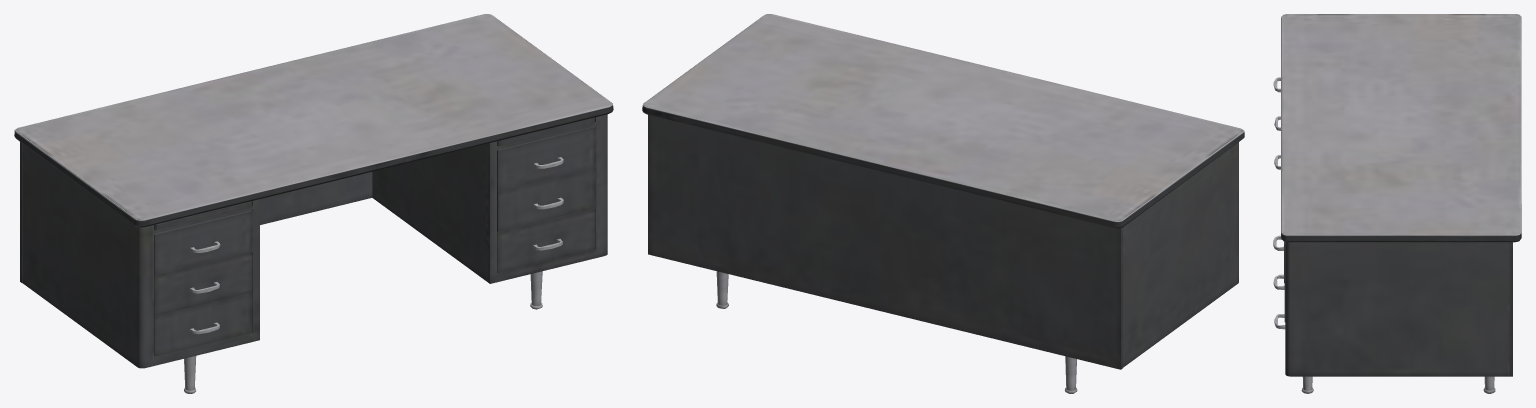
File: desk_lod1.glb
3 renders of one model, left to right at view 1: azimuth 30°, elevation 25°; view 2: azimuth 150°, elevation 25°; view 3: azimuth 270°, elevation 25°, orthographic. The views are drawn at different scales.
Bounding box in the file's own units: 2 × 0.7875 × 0.947.
1 material, 1 textured.
